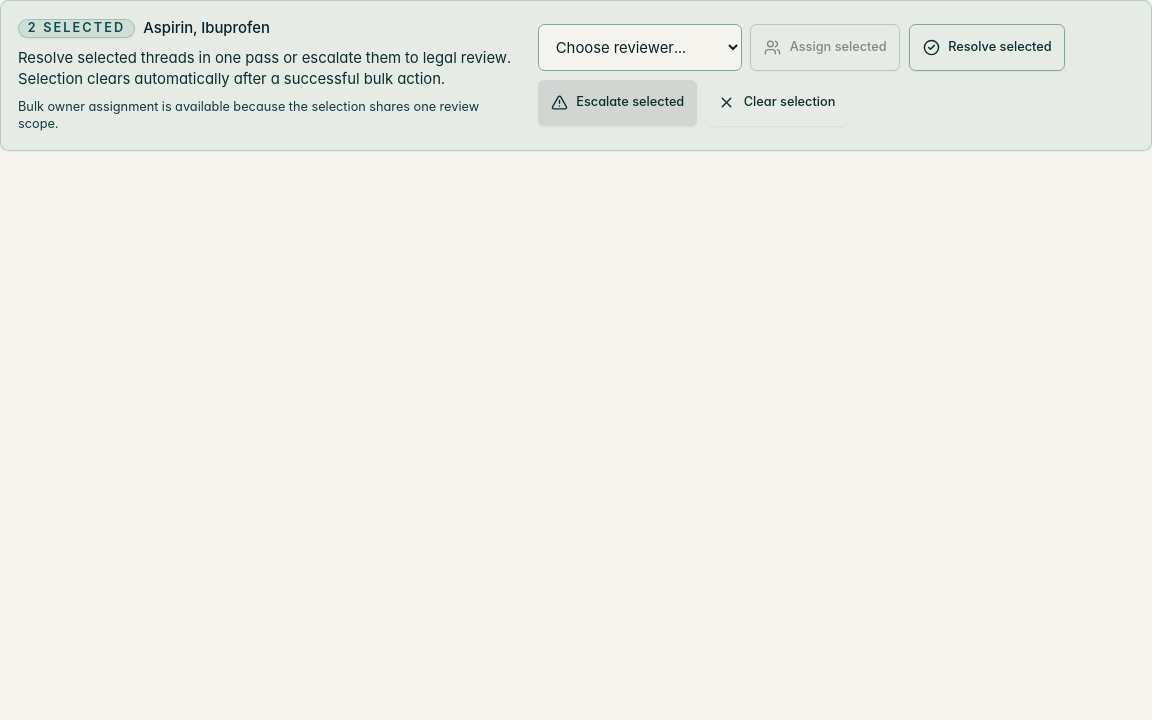
ReviewQueueBulkToolbar › reports partial bulk failures without exposing backend diagnostics
The width and height of the screenshot is (1152, 720).
Click the button "Resolve selected": {"x": 987, "y": 48} [909,24,1065,71]
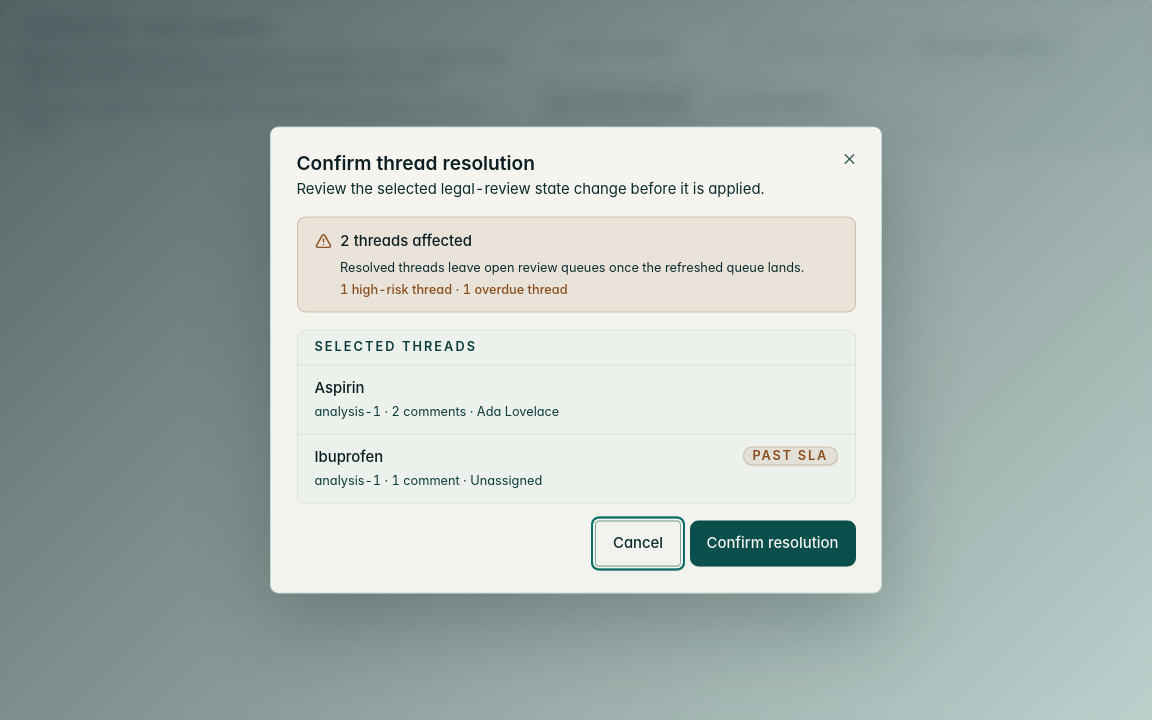
Check: the dialog is shown, box [270,126,882,593]
Click the button "Confirm resolution": {"x": 773, "y": 544} [690,520,856,567]
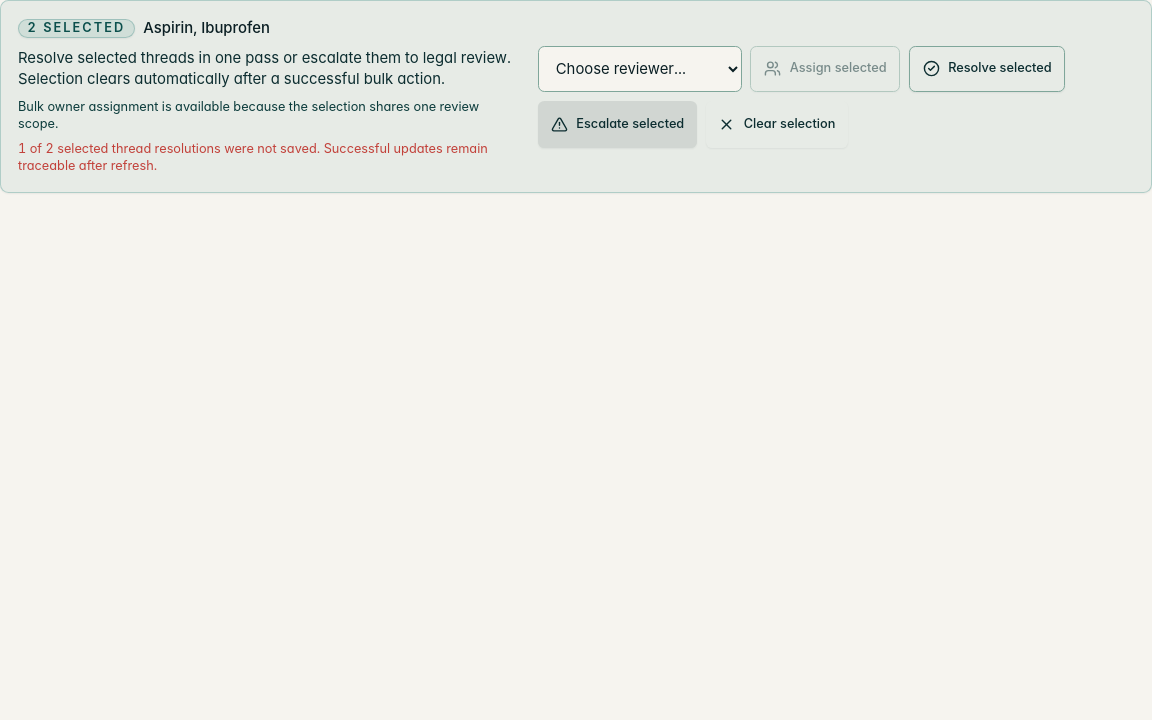
Check: the message shows "1 of 2 selected thread resolutions were not saved", box [18,141,488,173]
